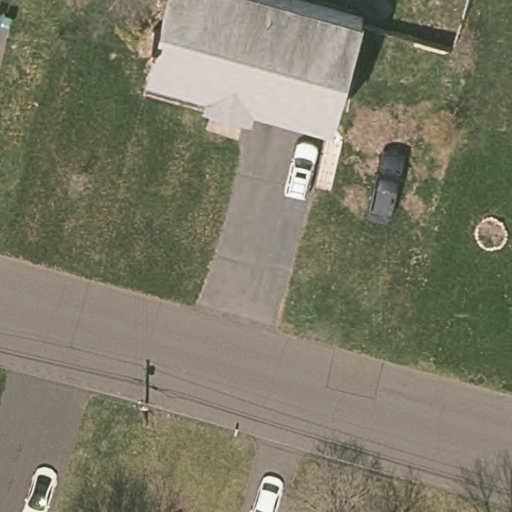DT: (132, 395, 154, 431)
